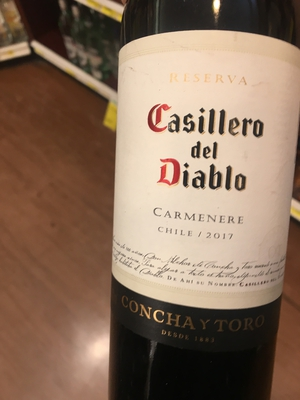casillero del diablo carmenere: (93, 10, 300, 381)
